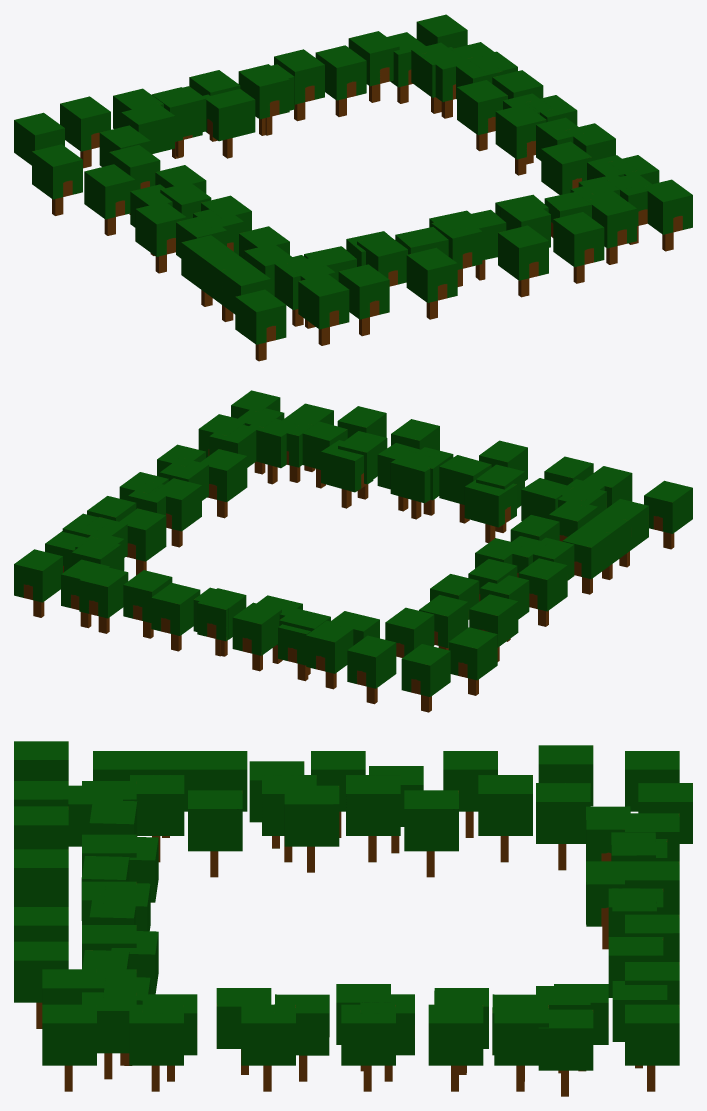
Rendered from map.fbx.
The picture shows the model from 3 angles, top to bottom: view 1: azimuth 30°, elevation 25°; view 2: azimuth 150°, elevation 25°; view 3: azimuth 270°, elevation 25°; orthographic projection. The views are drawn at different scales.
Visible parts, largest first — view 1: Tree; view 2: Tree; view 3: Tree.
Part boxes in pixels (x1,y1,x2,y2): Tree: [14, 14, 692, 361]; Tree: [14, 390, 692, 712]; Tree: [14, 741, 692, 1096].
Bounding box in the file's own units: 1655 × 217 × 1678.
Materials: 1 (1 with a texture image).
